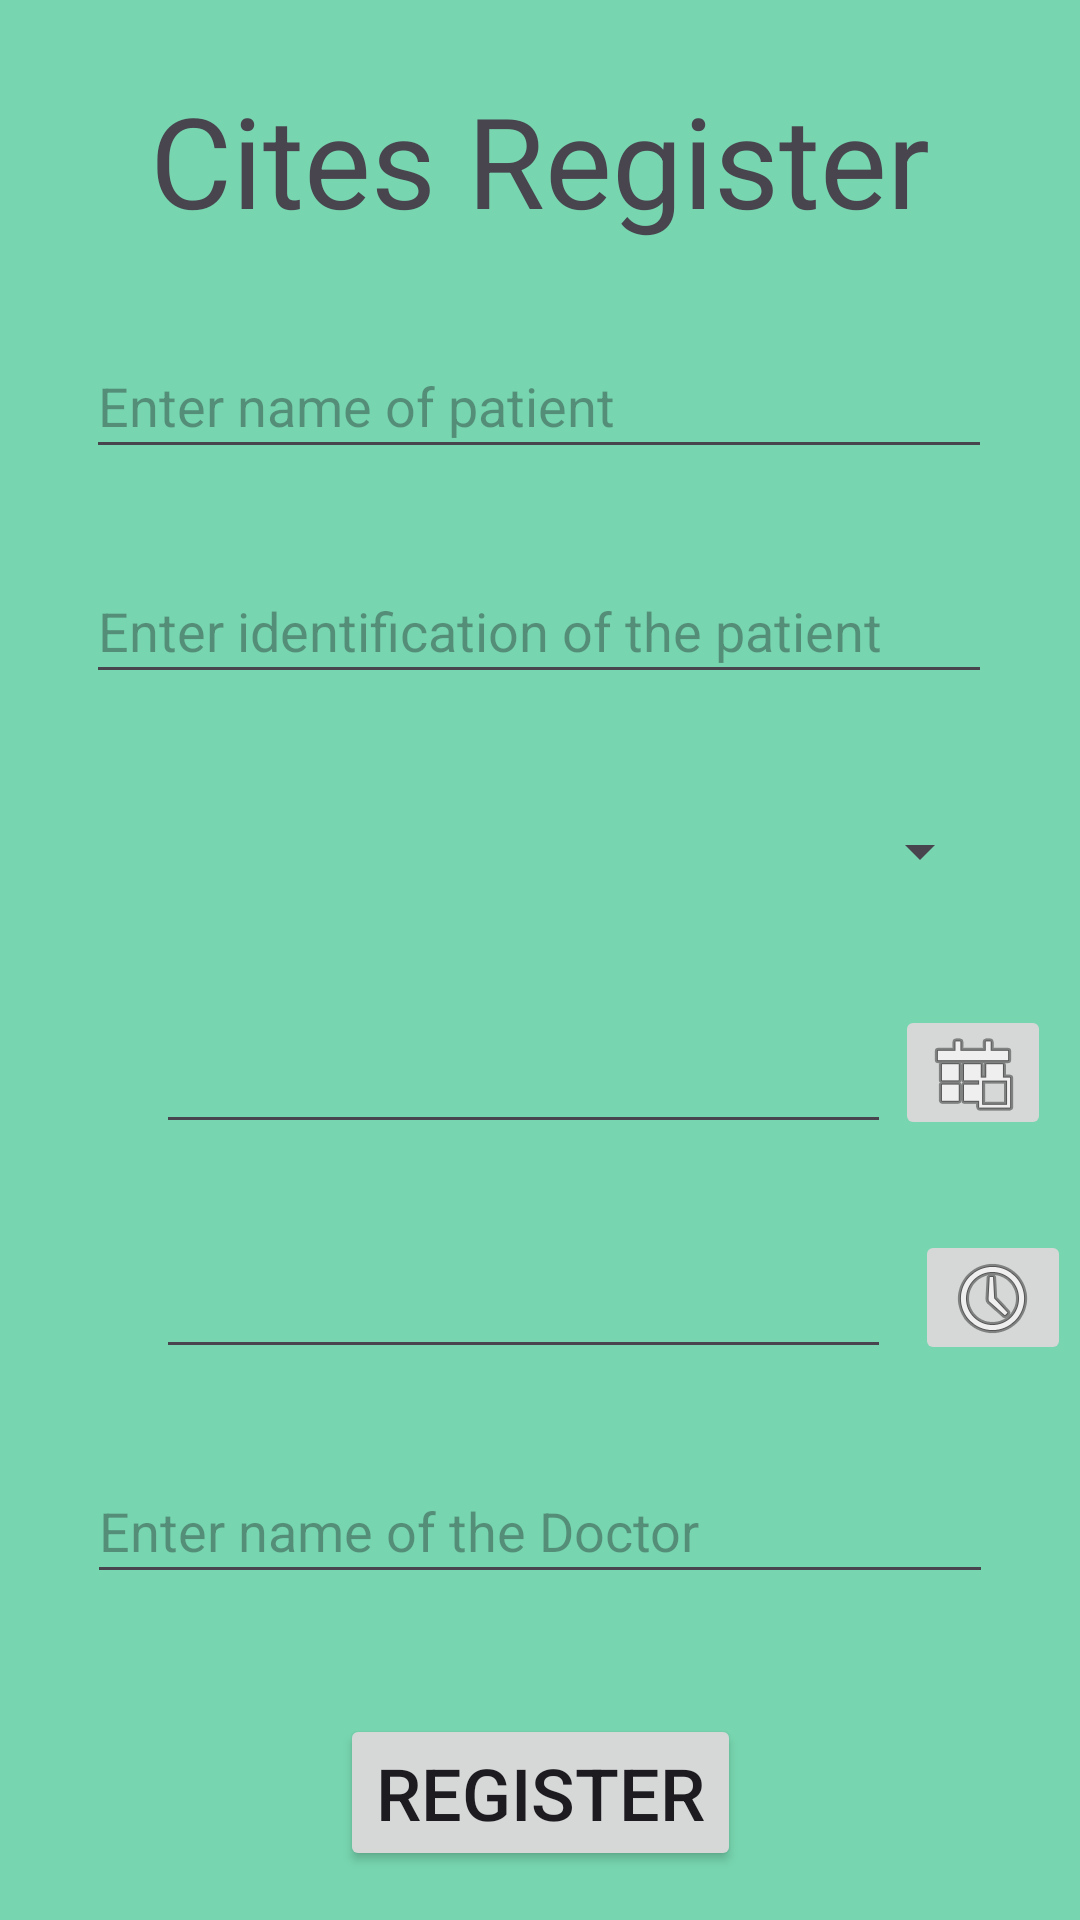

Icons on this 1080 x 1920 Android screen, each with its box as (x1, y1, x2, y2):
recent history: (927, 1248, 1059, 1347)
today: (907, 1023, 1039, 1122)
